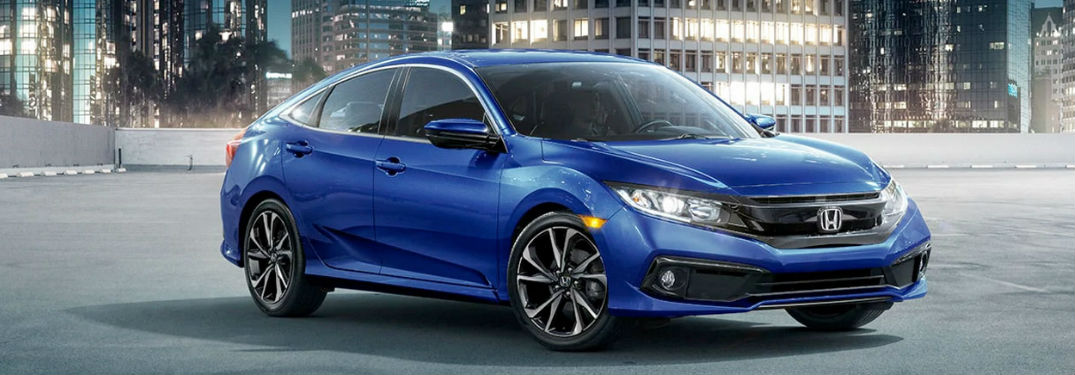car: (218, 47, 930, 352)
